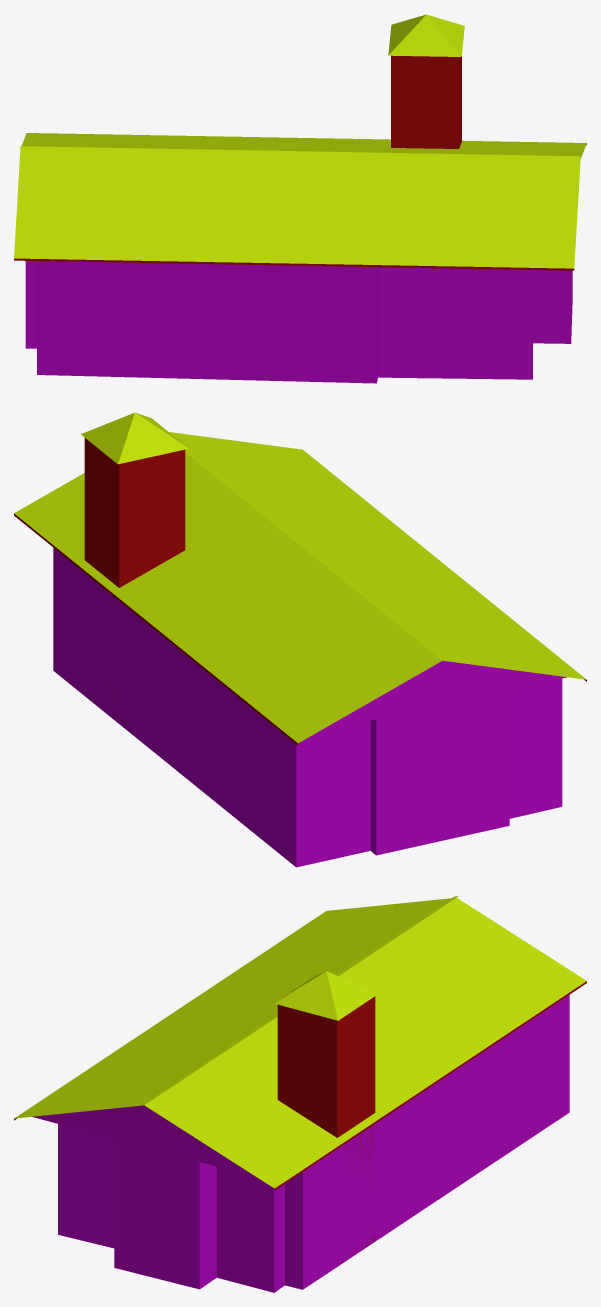
Rendered from rmc_81.glb.
The picture shows the model from 3 angles, top to bottom: view 1: azimuth 30°, elevation 25°; view 2: azimuth 150°, elevation 25°; view 3: azimuth 270°, elevation 25°; orthographic projection. The views are drawn at different scales.
Visible parts, largest first — view 1: rmc_81; view 2: rmc_81; view 3: rmc_81.
Boxes of the visible parts, bbox=[...] form: rmc_81: bbox=[14, 14, 586, 383]; rmc_81: bbox=[14, 412, 586, 867]; rmc_81: bbox=[14, 896, 586, 1292].
Size of the model in its own units: 32.55 by 15.05 by 28.39.
